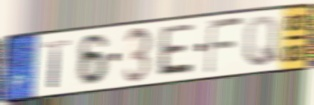3: (122, 25, 154, 86)
6: (75, 32, 112, 88)
E: (155, 22, 195, 79)
F: (204, 16, 246, 77)
Q: (243, 14, 281, 69)
T: (41, 37, 72, 90)
